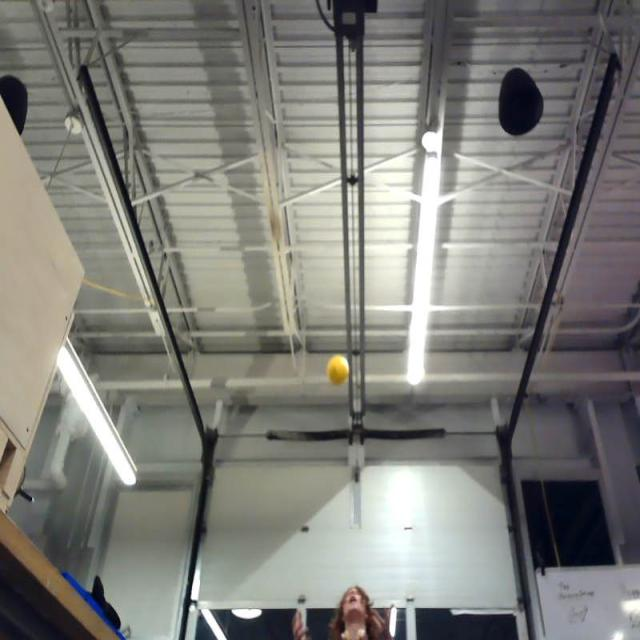Fuel: (327, 355, 349, 385)
